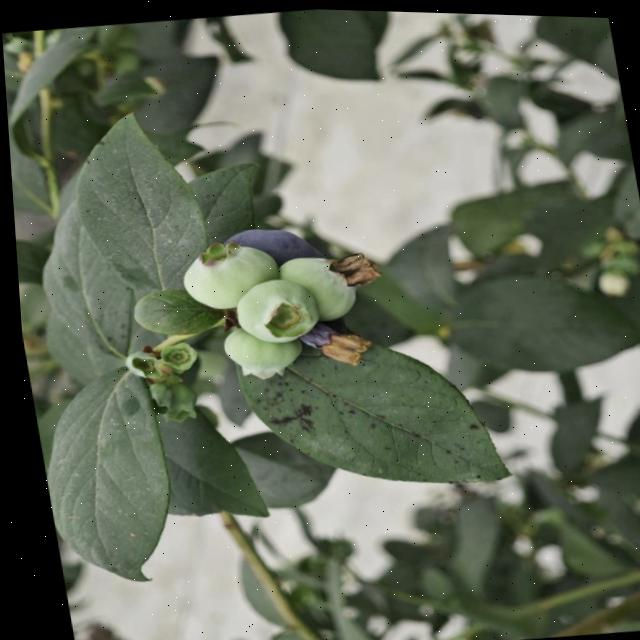UnripeBlueBerry: (171, 231, 285, 312), (225, 270, 321, 347)
